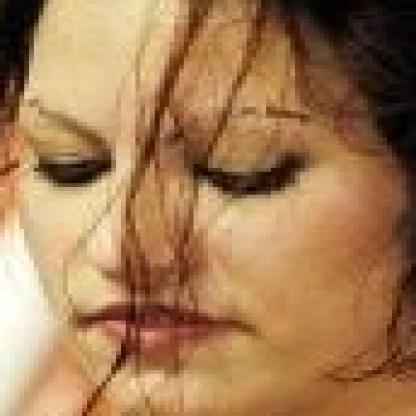female: (5, 0, 411, 412)
